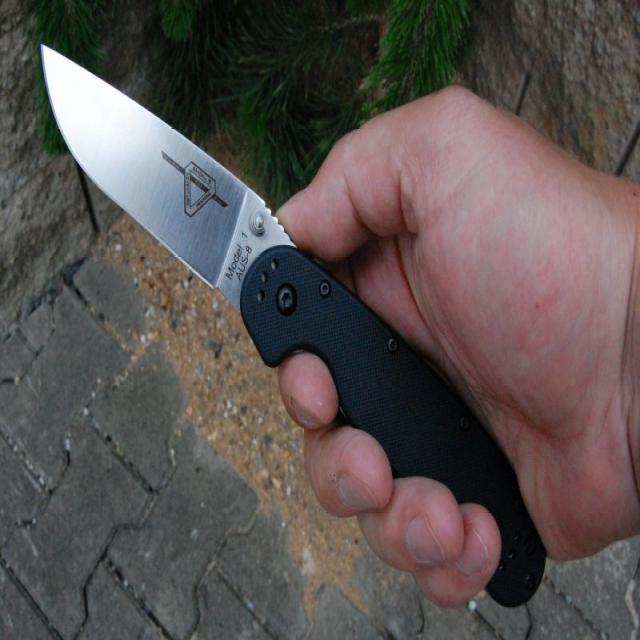knife: (41, 40, 550, 610)
